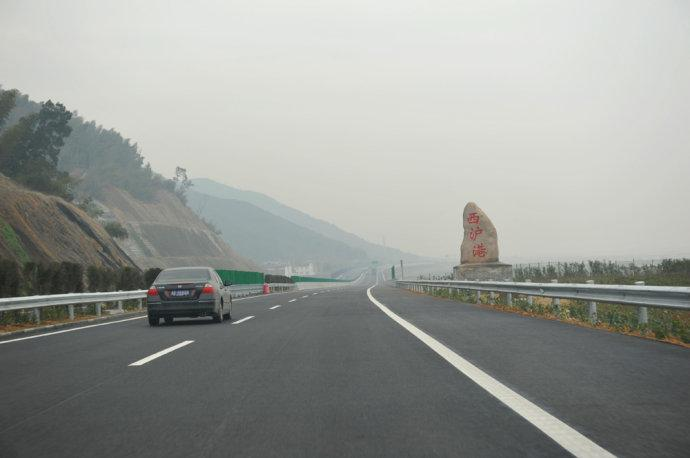car: (146, 267, 233, 326)
